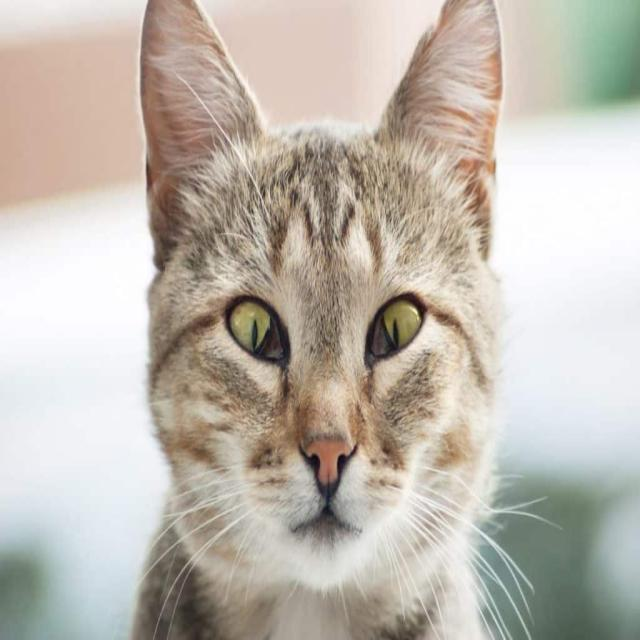cat-eye: (222, 284, 296, 370), (363, 286, 432, 374)
